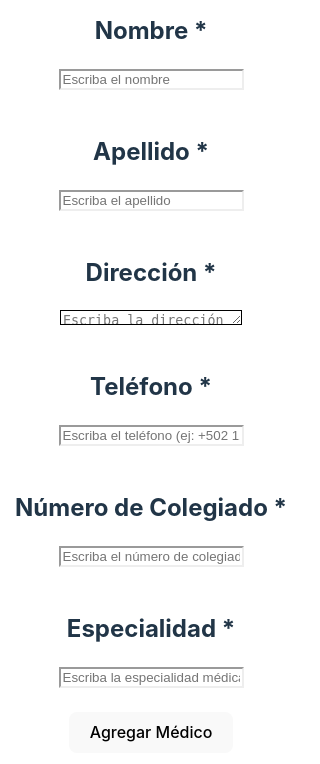
Test: MedicoAdd_mantenimiento › valida teléfono inválido y muestra error
Type "abc" into the field with placeholder "Escriba el teléfono (ej: +502 1234-5678)" at (151, 436), box x1=58 y1=425 x2=244 y2=446
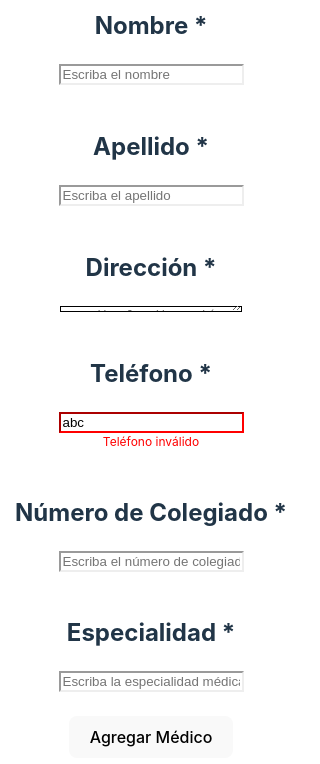
Check: the text "Teléfono inválido" is shown, box x1=103 y1=433 x2=199 y2=451
